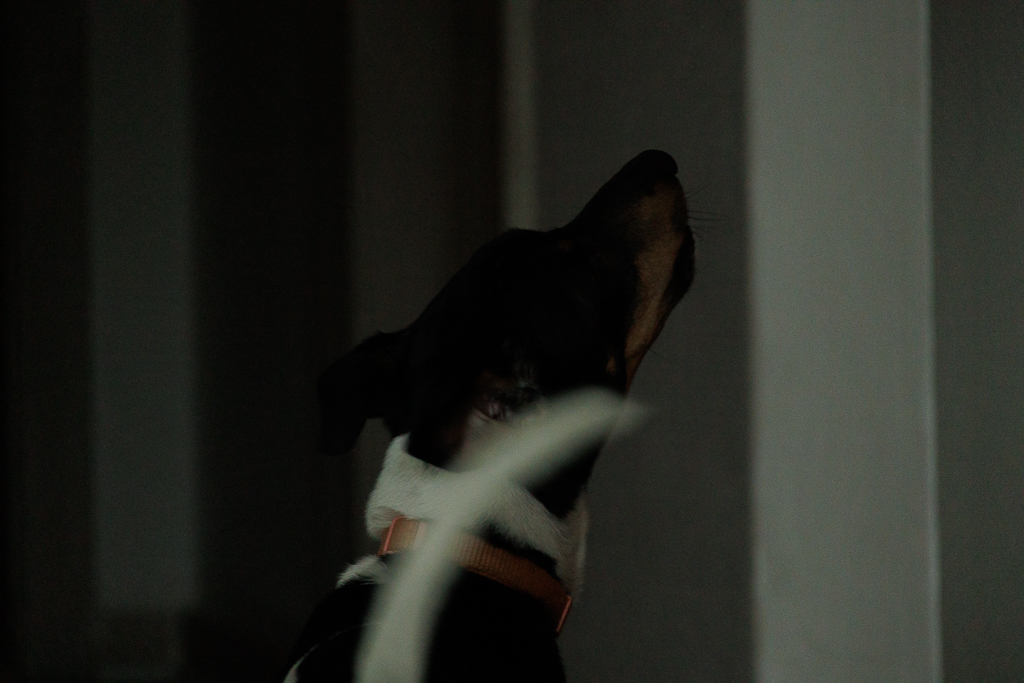Dog: (251, 141, 728, 683)
